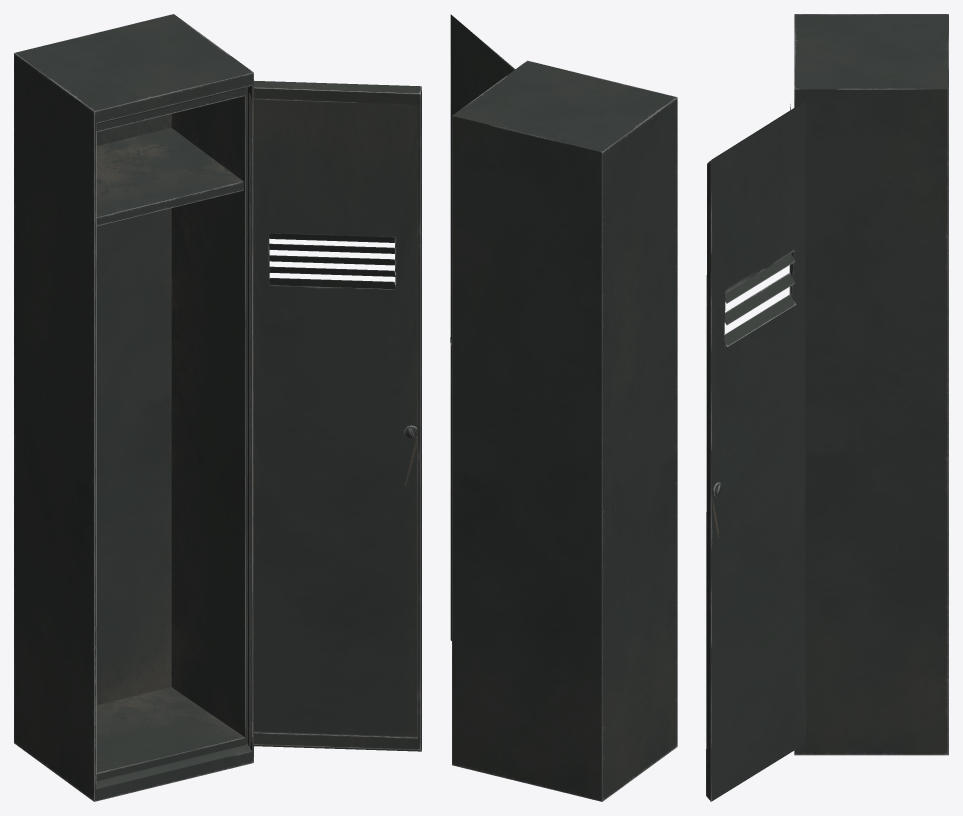
File: lockerWithDoorwindow.fbx
3 renders of one model, left to right at view 1: azimuth 30°, elevation 25°; view 2: azimuth 150°, elevation 25°; view 3: azimuth 270°, elevation 25°, orthographic. The views are drawn at different scales.
Parts seen in each view (by area): view 1: M.O.C, M.O.C.001; view 2: M.O.C, M.O.C.001; view 3: M.O.C, M.O.C.001.
Part boxes in pixels (x1=…): M.O.C: x1=14, y1=14, x2=253, y2=801; M.O.C.001: x1=247, y1=80, x2=421, y2=751; M.O.C: x1=452, y1=60, x2=677, y2=801; M.O.C.001: x1=450, y1=14, x2=515, y2=640; M.O.C: x1=789, y1=14, x2=948, y2=755; M.O.C.001: x1=706, y1=101, x2=805, y2=801.
Size of the model in its own units: 69.21 by 160 by 53.
